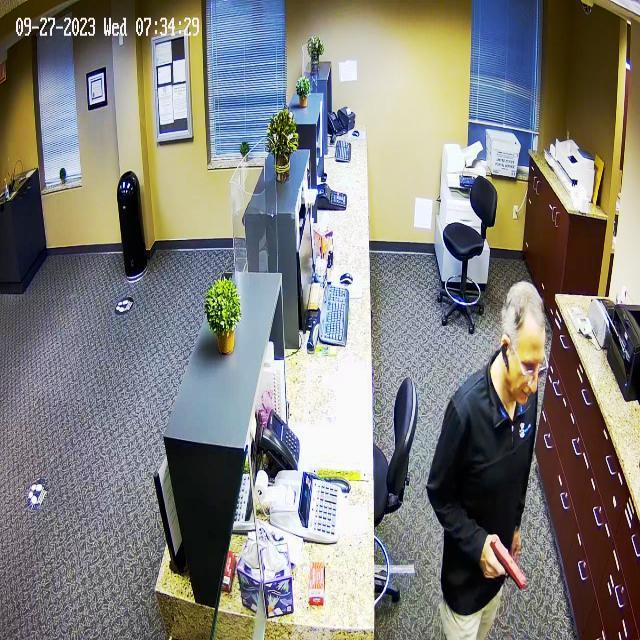Gun: (482, 530, 540, 613)
